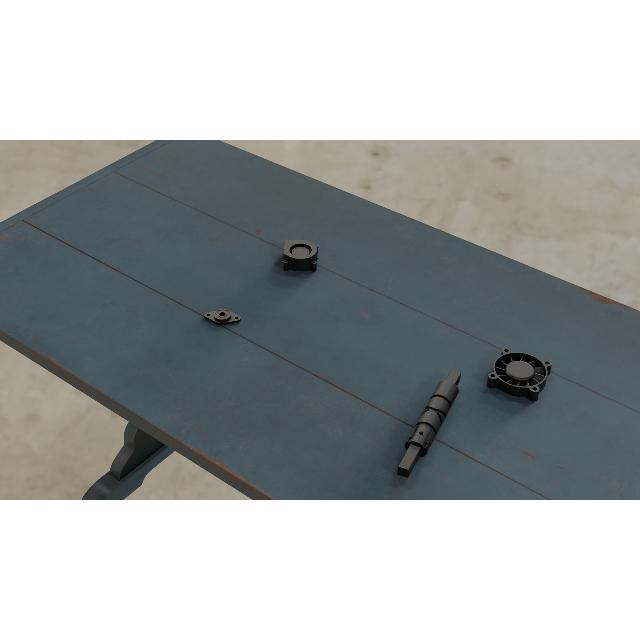Pieza1: (392, 364, 466, 484)
Pieza2: (201, 306, 243, 326)
Pieza3: (283, 240, 319, 272)
Pieza4: (484, 346, 554, 404)
